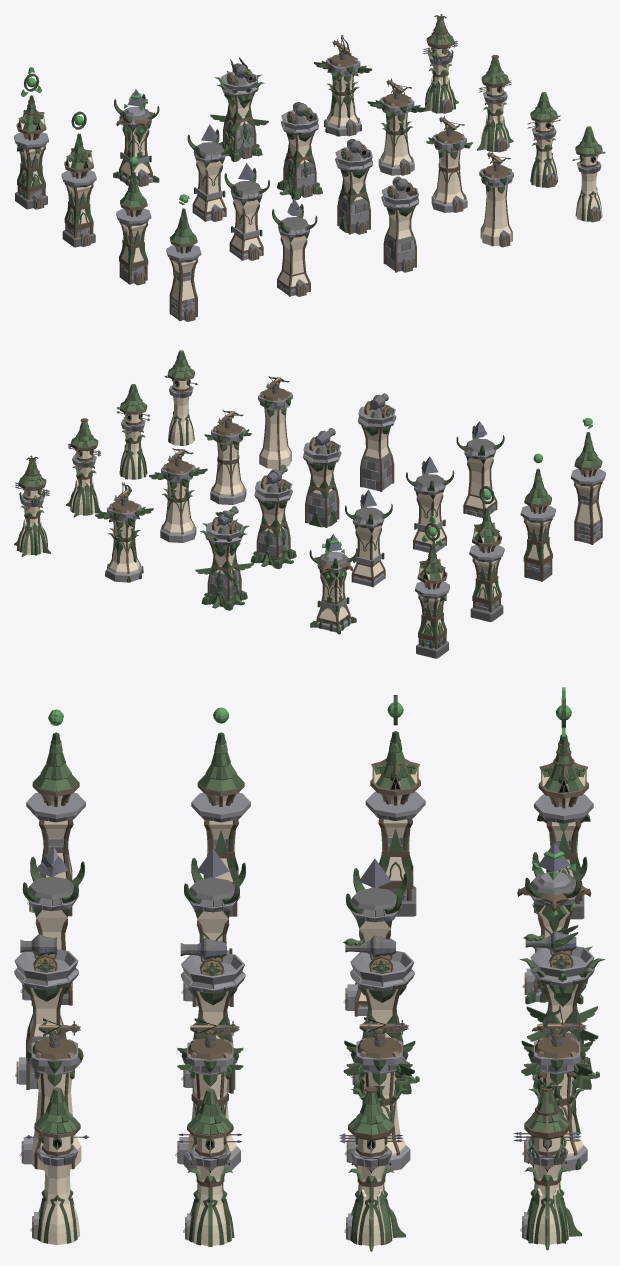
Rendered from demo.glb.
3 renders of one model, top to bottom at view 1: azimuth 30°, elevation 25°; view 2: azimuth 150°, elevation 25°; view 3: azimuth 270°, elevation 25°, orthographic. The views are drawn at different scales.
Visible parts, largest first — view 1: Cannon_tower_LVL_4, Wizard_tower_LVL_4, Wizard_tower_LVL_3, Cannon_tower_LVL_3, Cannon_tower_LVL_2, Cannon_tower_LVL_1, Wizard_tower_LVL_2, Ballista_tower_LVL_4, Wizard_tower_LVL_1, Ballista_tower_LVL_3, Poison_tower_LVL_4, Poison_tower_LVL_2 (+8 smaller); view 2: Cannon_tower_LVL_4, Wizard_tower_LVL_4, Cannon_tower_LVL_3, Wizard_tower_LVL_3, Cannon_tower_LVL_2, Cannon_tower_LVL_1, Poison_tower_LVL_4, Ballista_tower_LVL_4, Wizard_tower_LVL_2, Wizard_tower_LVL_1, Ballista_tower_LVL_3, Ballista_tower_LVL_2 (+8 smaller); view 3: archer_tower_LVL_4, Wizard_tower_LVL_3, archer_tower_LVL_3, Cannon_tower_LVL_4, archer_tower_LVL_2, archer_tower_LVL_1, Wizard_tower_LVL_4, Ballista_tower_LVL_4, Ballista_tower_LVL_3, Cannon_tower_LVL_1, Cannon_tower_LVL_3, Wizard_tower_LVL_2 (+8 smaller).
Part boxes in pixels (x1,y1,x2,y2): Cannon_tower_LVL_4: (210, 57, 268, 161); Wizard_tower_LVL_4: (14, 67, 48, 209); Wizard_tower_LVL_3: (61, 111, 96, 247); Cannon_tower_LVL_3: (277, 102, 322, 200); Cannon_tower_LVL_2: (335, 139, 372, 234); Cannon_tower_LVL_1: (381, 176, 419, 272); Wizard_tower_LVL_2: (116, 156, 151, 285); Ballista_tower_LVL_4: (314, 35, 372, 136); Wizard_tower_LVL_1: (166, 194, 201, 321); Ballista_tower_LVL_3: (367, 78, 425, 175); Poison_tower_LVL_4: (113, 89, 159, 186); Poison_tower_LVL_2: (224, 163, 269, 260); Cannon_tower_LVL_4: (195, 506, 253, 610); Wizard_tower_LVL_4: (415, 516, 449, 658); Cannon_tower_LVL_3: (250, 464, 296, 569); Wizard_tower_LVL_3: (469, 486, 504, 622); Cannon_tower_LVL_2: (303, 428, 341, 527); Cannon_tower_LVL_1: (358, 393, 396, 491); Poison_tower_LVL_4: (309, 534, 357, 634); Ballista_tower_LVL_4: (95, 482, 153, 582); Wizard_tower_LVL_2: (520, 453, 555, 581); Wizard_tower_LVL_1: (571, 418, 605, 544); Ballista_tower_LVL_3: (149, 448, 207, 542); Ballista_tower_LVL_2: (204, 410, 251, 504); archer_tower_LVL_4: (513, 1082, 581, 1250); Wizard_tower_LVL_3: (365, 695, 425, 916); archer_tower_LVL_3: (339, 1086, 405, 1251); Cannon_tower_LVL_4: (520, 925, 604, 1089); archer_tower_LVL_2: (178, 1088, 242, 1246); archer_tower_LVL_1: (25, 1087, 89, 1245); Wizard_tower_LVL_4: (532, 687, 593, 919); Ballista_tower_LVL_4: (521, 1006, 592, 1171); Ballista_tower_LVL_3: (343, 1017, 415, 1170); Cannon_tower_LVL_1: (14, 934, 78, 1089); Cannon_tower_LVL_3: (343, 935, 419, 1094); Wizard_tower_LVL_2: (191, 707, 250, 916).
Bounding box in the file's own units: 10.93 × 3.2 × 7.67.
1 material, 1 textured.
